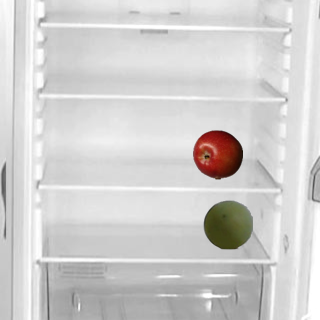Apple Braeburn: (192, 129, 242, 179)
Grape White 4: (202, 199, 252, 249)
